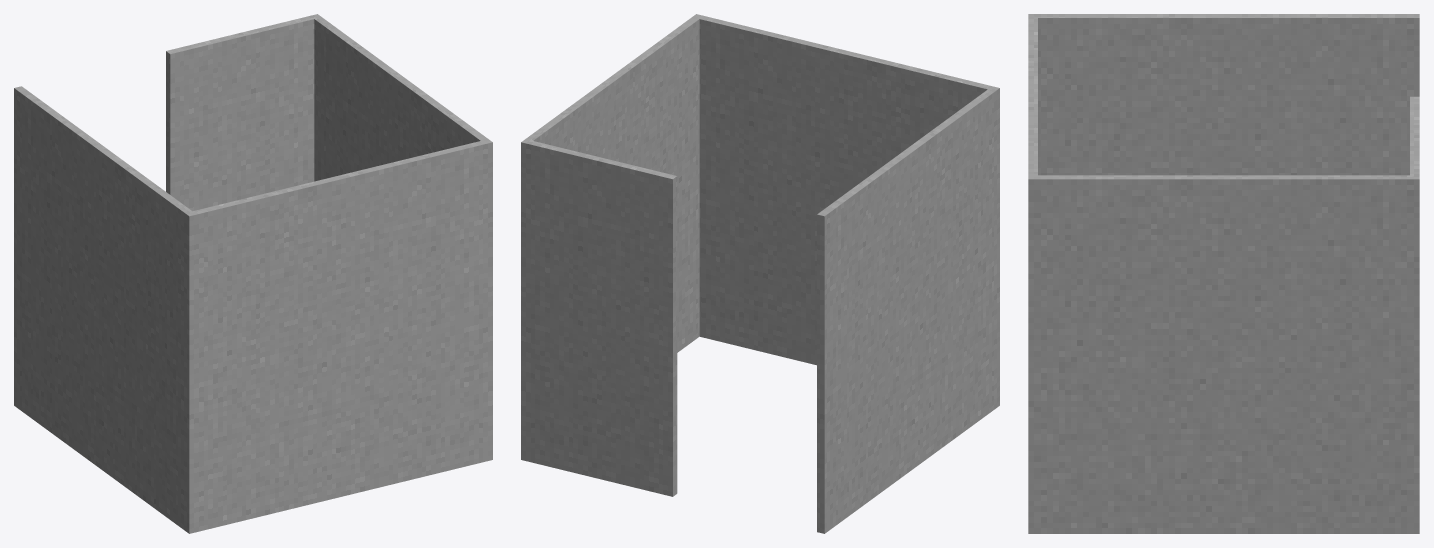
File: cubicle.glb
3 renders of one model, left to right at view 1: azimuth 30°, elevation 25°; view 2: azimuth 150°, elevation 25°; view 3: azimuth 270°, elevation 25°, orthographic. The views are drawn at different scales.
Visible parts, largest first — view 1: Cube; view 2: Cube; view 3: Cube.
Boxes of the visible parts, box(x1,y1,x2,y2) form: Cube: box(14, 14, 492, 533); Cube: box(521, 14, 999, 533); Cube: box(1028, 14, 1419, 533).
Size of the model in its own units: 4 by 4 by 4.
Materials: 1 (1 with a texture image).
